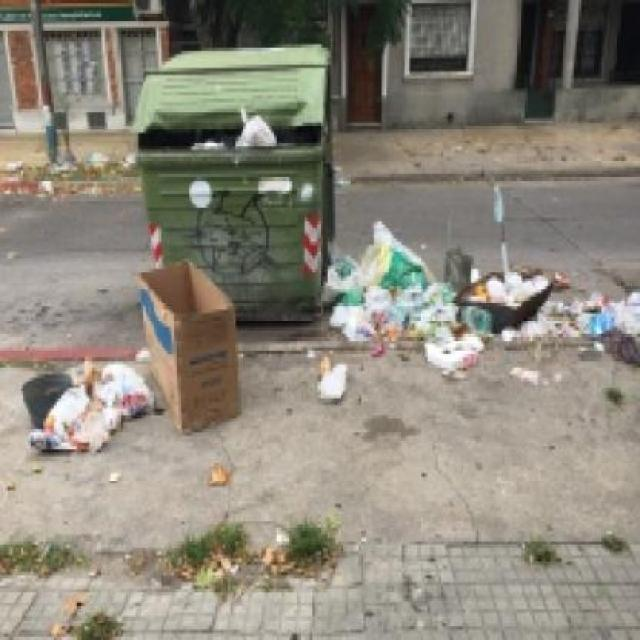garbage: (317, 222, 562, 355), (16, 362, 157, 450)
